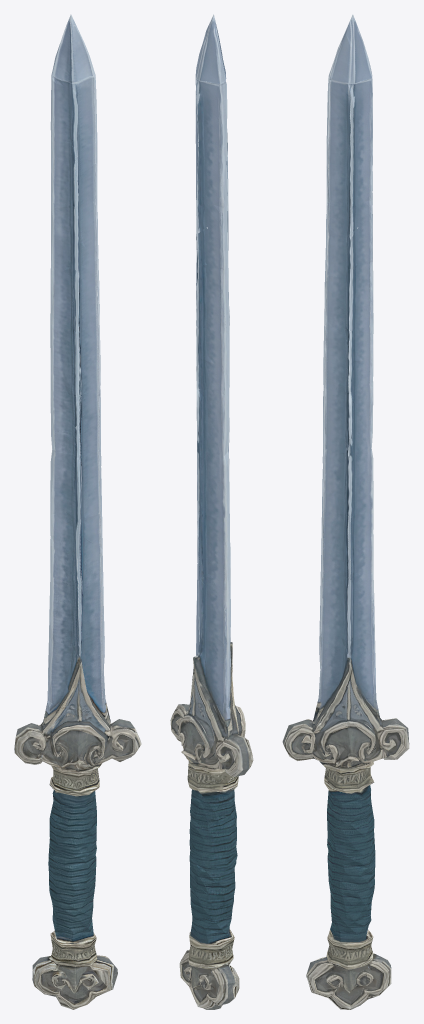
The model's file is eq_longquanjian.glb.
3 views of the same model, side by side, from view 1: azimuth 90°, elevation 25°; view 2: azimuth 210°, elevation 25°; view 3: azimuth 270°, elevation 25° (orthographic).
Parts seen in each view (by area): view 1: NormalizedProp; view 2: NormalizedProp; view 3: NormalizedProp.
Boxes of the visible parts, <box> form: NormalizedProp: <box>14,14,141,1009</box>; NormalizedProp: <box>170,14,253,1009</box>; NormalizedProp: <box>282,14,409,1009</box>.
Bounding box in the file's own units: 0.0369 × 0.5603 × 0.0649.
1 material, 1 textured.
